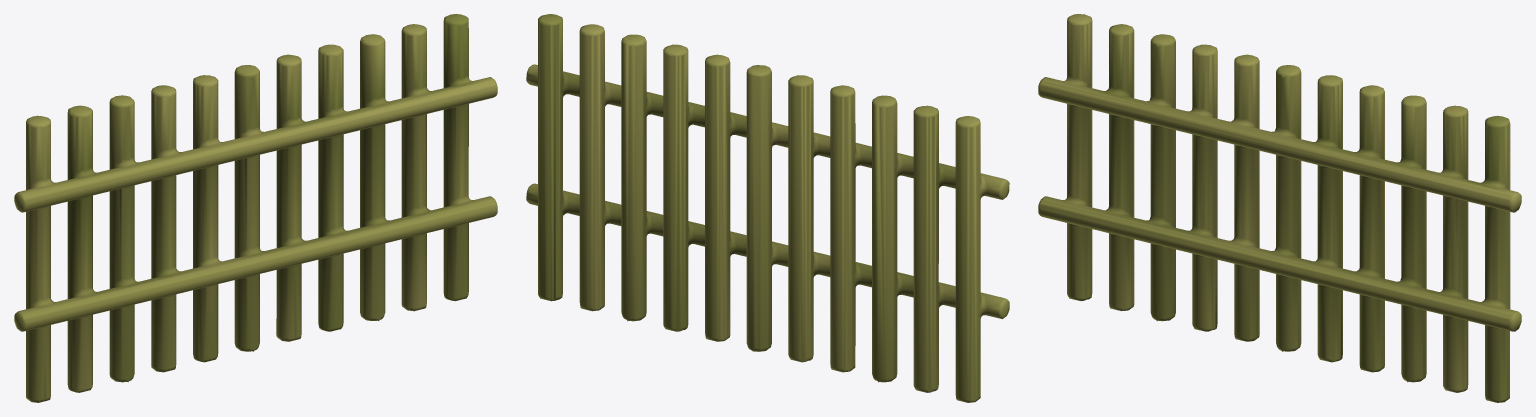
Rendered from bamboo_fence.glb.
The picture shows the model from 3 angles, left to right: view 1: azimuth 30°, elevation 25°; view 2: azimuth 150°, elevation 25°; view 3: azimuth 330°, elevation 25°; orthographic projection.
Parts seen in each view (by area): view 1: bamboo; view 2: bamboo; view 3: bamboo.
Part boxes in pixels (x1,y1,x2,y2): bamboo: (14, 14, 497, 402); bamboo: (526, 14, 1009, 402); bamboo: (1038, 14, 1521, 402).
Size of the model in its own units: 2.51 by 1.4 by 0.1881.
